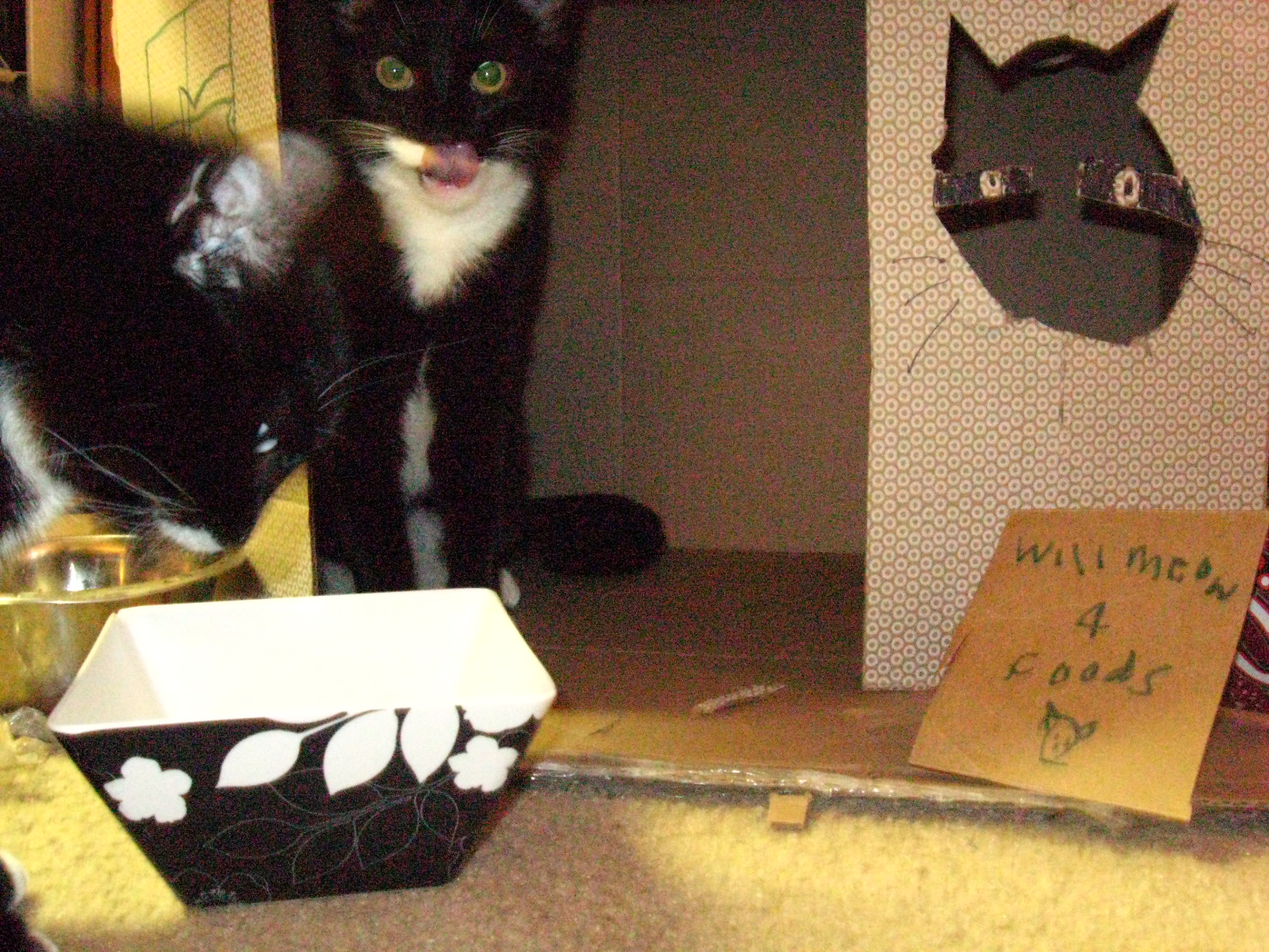cat: (0, 0, 684, 602)
